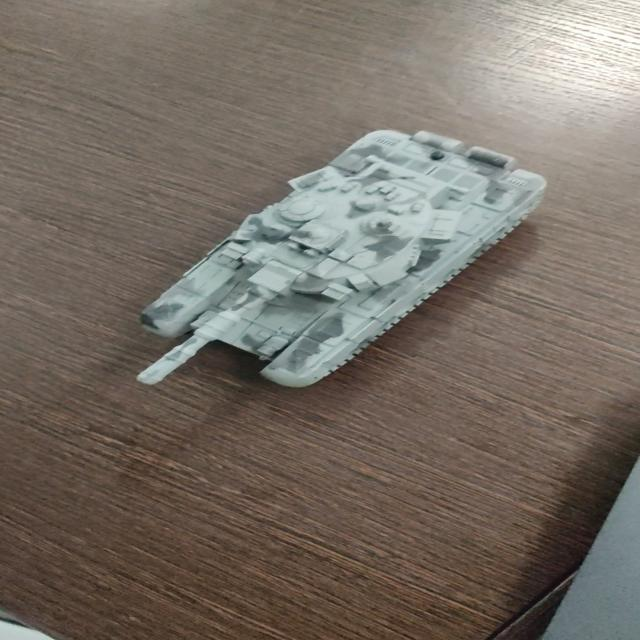tank: (123, 114, 564, 396)
